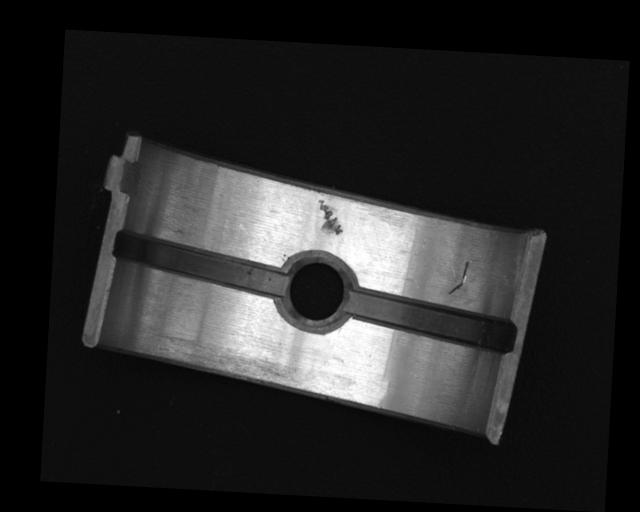bruise: (315, 199, 344, 236)
gap: (111, 231, 288, 297), (344, 289, 516, 353)
hole: (276, 252, 355, 332)
nick: (448, 259, 470, 296)
scratch: (155, 333, 304, 388)
